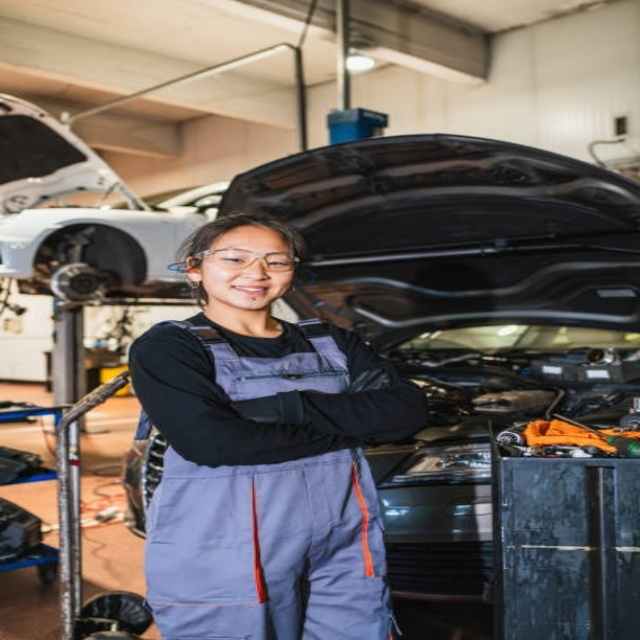Gafas: (186, 249, 302, 272)
Sin_mascara: (224, 280, 273, 304)
